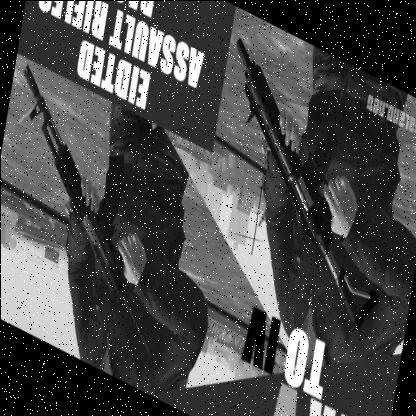rifle: (197, 25, 408, 338), (0, 62, 193, 364)
